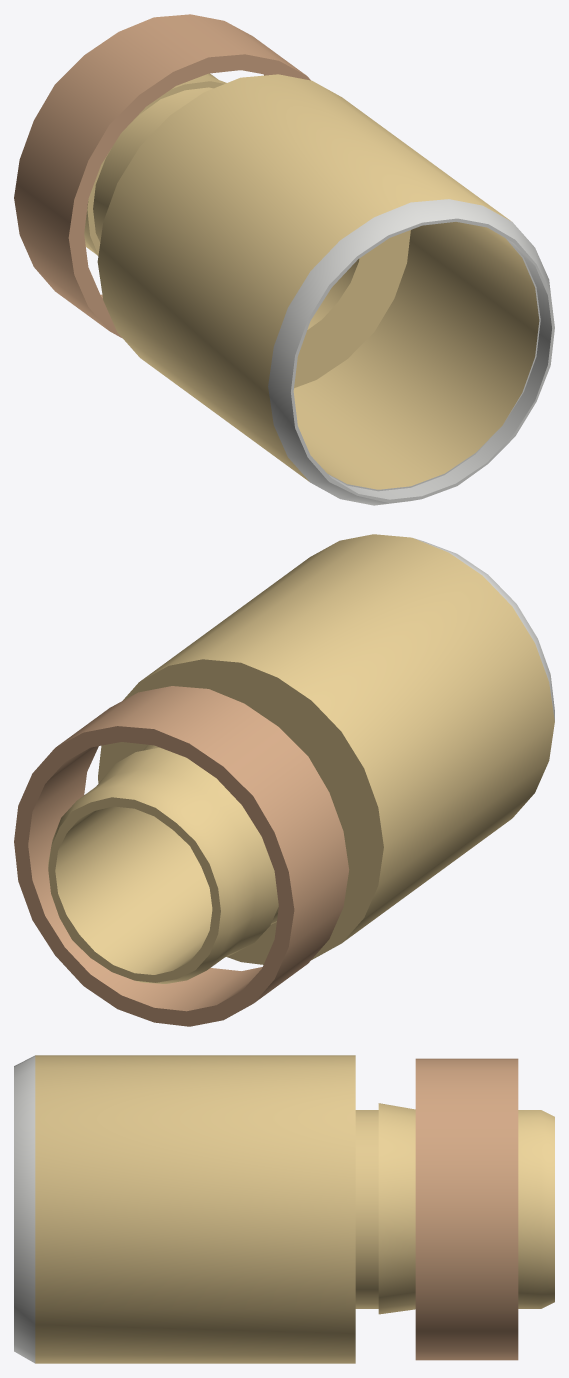
Rendered from slab_pipes_supply__plumbing-attic_repipe+pex.glb.
3 renders of one model, top to bottom at view 1: azimuth 30°, elevation 25°; view 2: azimuth 150°, elevation 25°; view 3: azimuth 270°, elevation 25°, orthographic. The views are drawn at different scales.
Visible parts, largest first — view 1: fit_header_inlet_pipe_supply_manifold_feed__pex; view 2: fit_header_inlet_pipe_supply_manifold_feed__pex; view 3: fit_header_inlet_pipe_supply_manifold_feed__pex.
Boxes of the visible parts, x1,y1,x2,y2 form: fit_header_inlet_pipe_supply_manifold_feed__pex: (14, 14, 554, 505); fit_header_inlet_pipe_supply_manifold_feed__pex: (14, 534, 554, 1026); fit_header_inlet_pipe_supply_manifold_feed__pex: (14, 1055, 554, 1363).
Bounding box in the file's own units: 0.0247 × 0.0247 × 0.0431.
